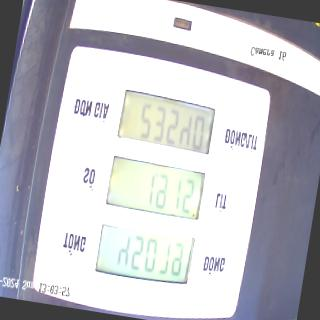screen: (92, 84, 220, 292)
